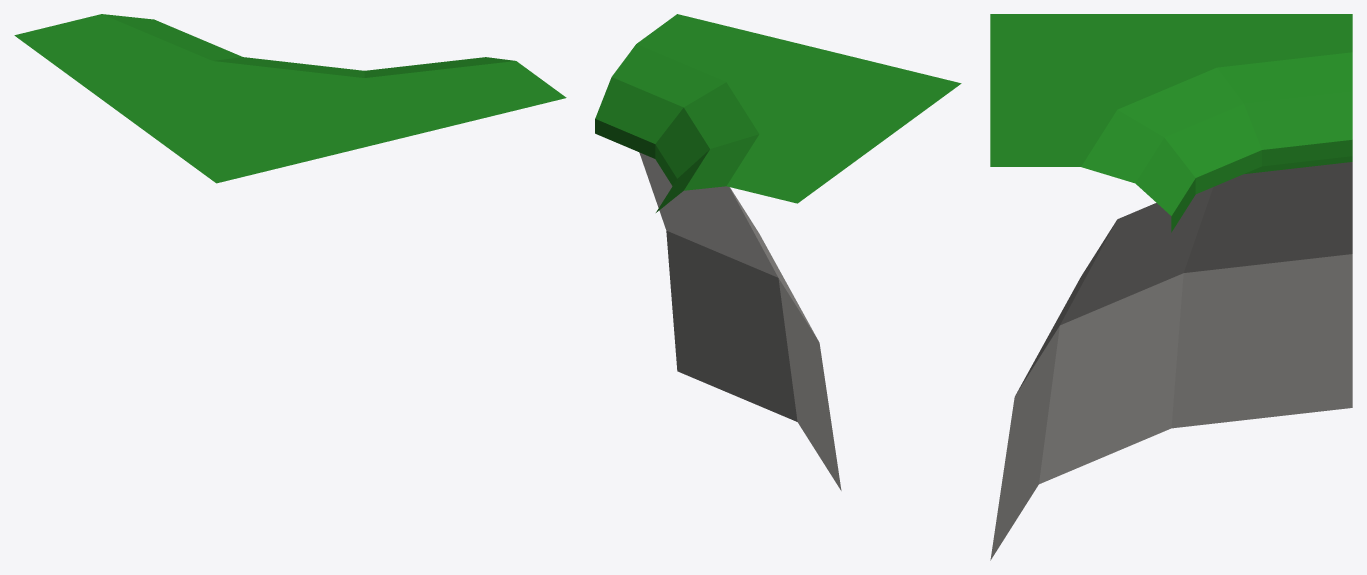
File: Cliff_Terrain_Corner_Inner_1x1_Top.glb
The picture shows the model from 3 angles, left to right: view 1: azimuth 30°, elevation 25°; view 2: azimuth 150°, elevation 25°; view 3: azimuth 270°, elevation 25°; orthographic projection. The views are drawn at different scales.
Visible parts, largest first — view 1: Cliff_Terrain_Corner_Inner_1x1_Top; view 2: Cliff_Terrain_Corner_Inner_1x1_Top; view 3: Cliff_Terrain_Corner_Inner_1x1_Top.
Part boxes in pixels (x1,y1,x2,y2): Cliff_Terrain_Corner_Inner_1x1_Top: (14, 14, 566, 183); Cliff_Terrain_Corner_Inner_1x1_Top: (595, 14, 961, 490); Cliff_Terrain_Corner_Inner_1x1_Top: (990, 14, 1352, 560).
Bounding box in the file's own units: 1 × 1.2 × 1.
